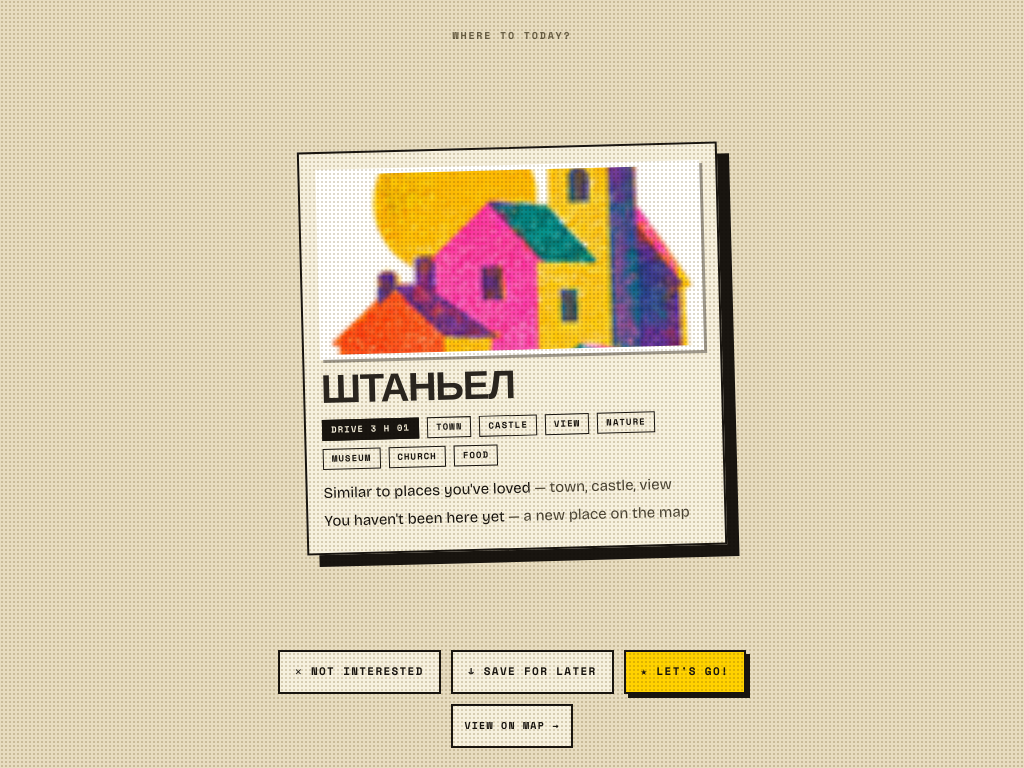
Test: App — screen switching (issues 59, 141) › switches to The Atlas via 'View on map', and back via 'Recommend'
What coordinates should you click on to do the following:
click the button "View on map →"
I would click on:
 (512, 726)
Its box is [452, 704, 573, 748].
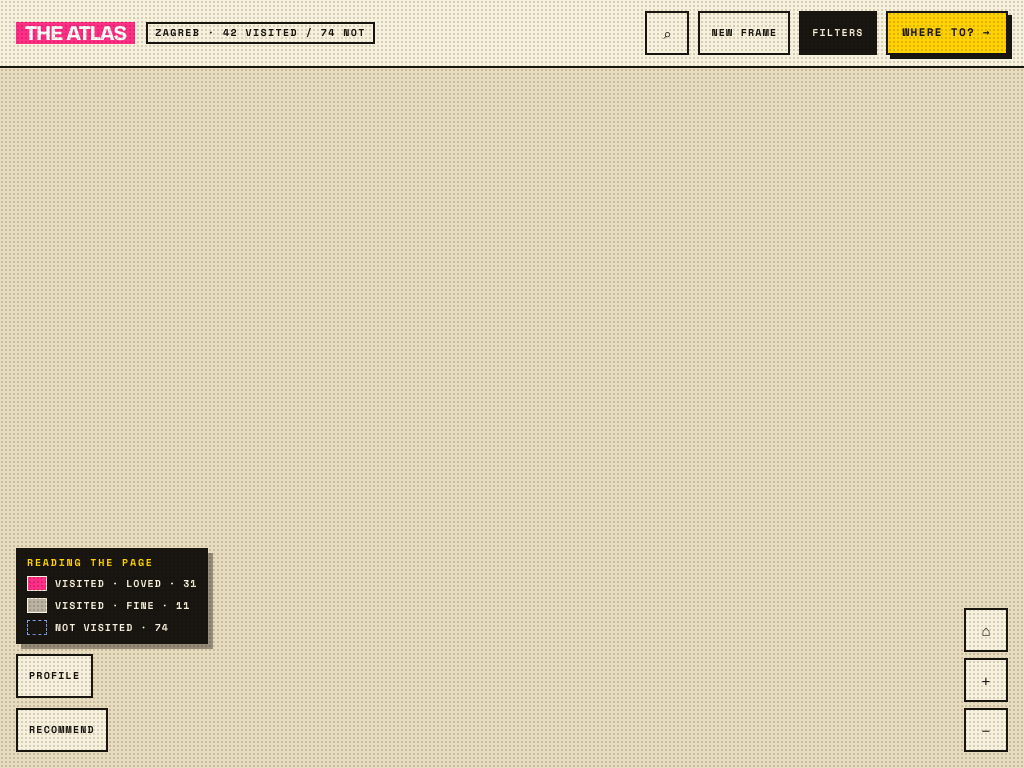
Now the text "The Atlas" is shown, box [16, 22, 135, 44]
Now the text "Where to today?" is gone
What coordinates should you click on to do the following:
click the button "Recommend"
I would click on:
 (62, 730)
Its box is [16, 708, 108, 752].
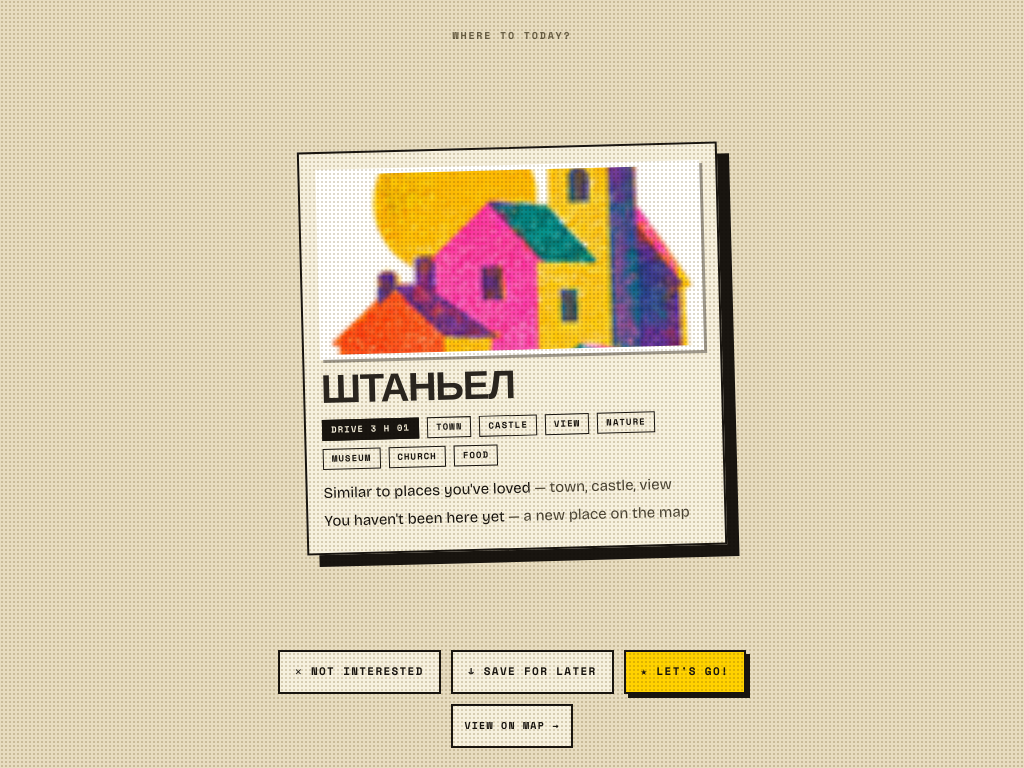
Now the text "Where to today?" is shown, box [453, 28, 571, 43]
Now the text "The Atlas" is gone
